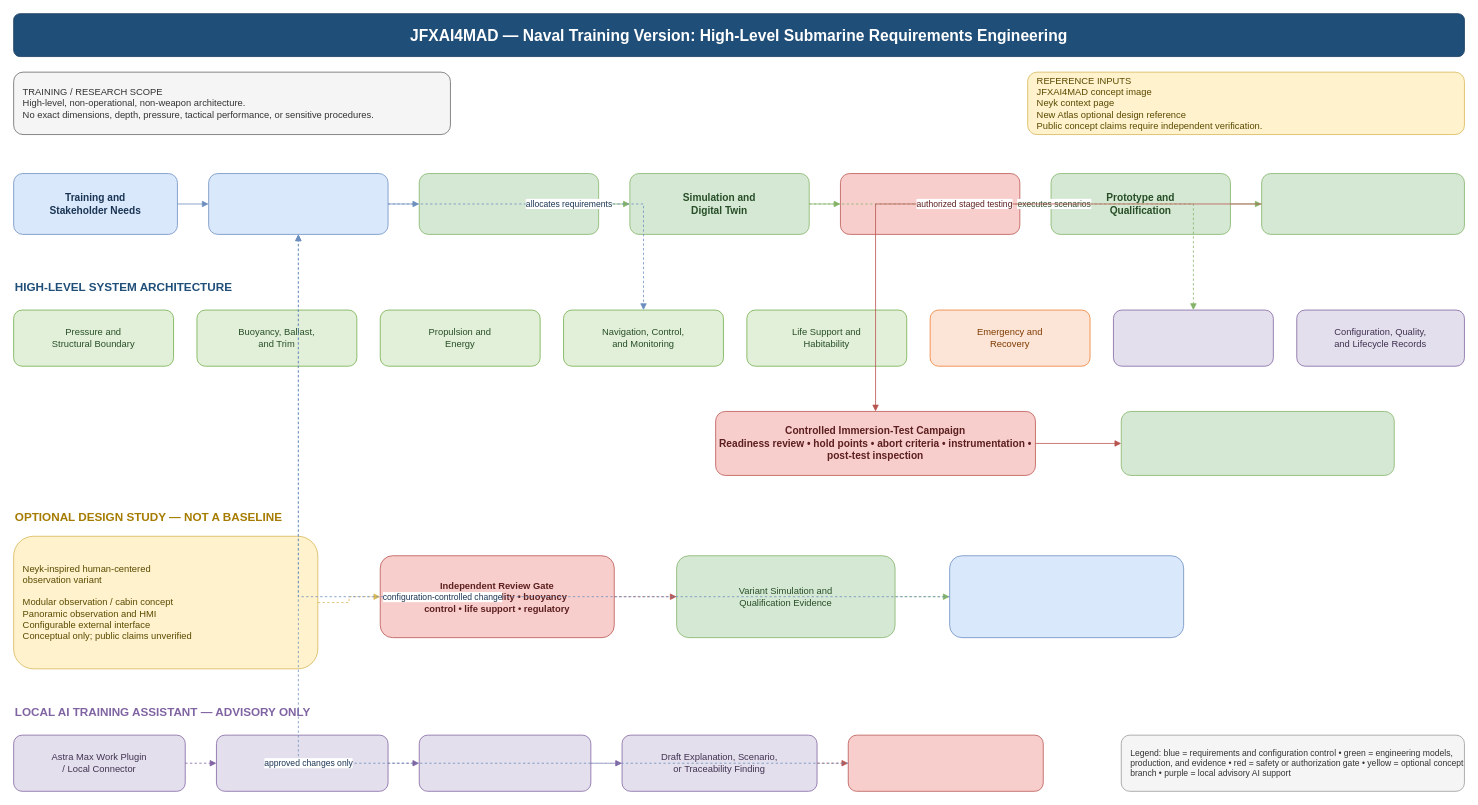
Image size: 1478x805. Some labels were removed from this diagram. Here are the shapes that lost their labels. From the top down, the box of each, then its label:
(208, 173, 388, 234): Controlled MBSE Requirements Baseline
(418, 173, 599, 234): CAD / CAM / CAS and Modelica Models
(840, 173, 1020, 234): Safety, V&V, and Evidence Review
(1261, 173, 1464, 234): Serial Production and Unit Acceptance
(1113, 309, 1273, 366): Training, Scenario Control, and Assessment
(1120, 411, 1394, 475): Validated Baseline and Acceptance Evidence
(949, 555, 1184, 638): Approved Variant Package or Rejected / Deferred Record
(216, 734, 388, 791): Approved RAG / MCP Engineering Data
(418, 734, 591, 791): Local gpt-oss Inference
(847, 734, 1043, 791): Human Engineering Review and Approval
